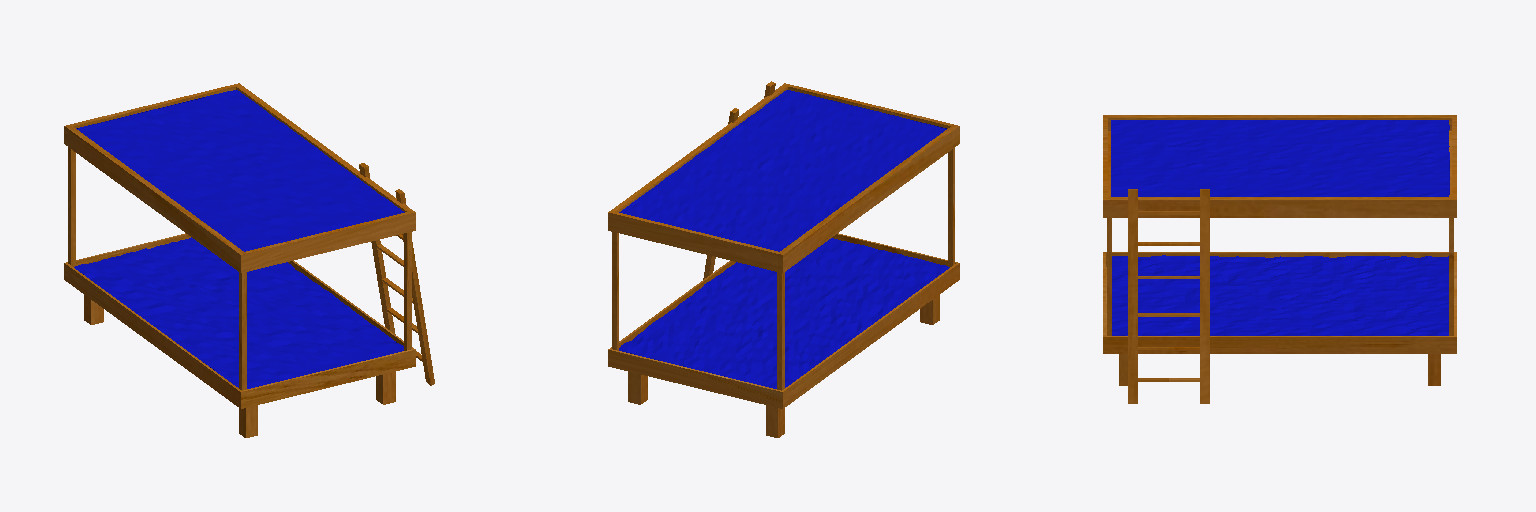
The picture shows the model from 3 angles: view 1: azimuth 30°, elevation 25°; view 2: azimuth 150°, elevation 25°; view 3: azimuth 270°, elevation 25°; orthographic projection.
Parts seen in each view (by area): view 1: Matratze2, Matratze1, Bedframe, Leiter; view 2: Matratze2, Matratze1, Bedframe; view 3: Matratze2, Matratze1, Bedframe, Leiter.
Boxes of the visible parts, x1=… form: Matratze2: x1=76, y1=90, x2=404, y2=251; Matratze1: x1=74, y1=237, x2=403, y2=388; Bedframe: x1=64, y1=83, x2=415, y2=437; Leiter: x1=359, y1=163, x2=434, y2=385; Matratze2: x1=619, y1=90, x2=946, y2=251; Matratze1: x1=619, y1=238, x2=949, y2=388; Bedframe: x1=608, y1=83, x2=959, y2=437; Matratze2: x1=1111, y1=120, x2=1449, y2=196; Matratze1: x1=1112, y1=255, x2=1448, y2=335; Bedframe: x1=1103, y1=115, x2=1456, y2=385; Leiter: x1=1128, y1=189, x2=1209, y2=403.
Bounding box in the file's own units: 4.73 × 4.43 × 7.
2 materials, 1 textured.